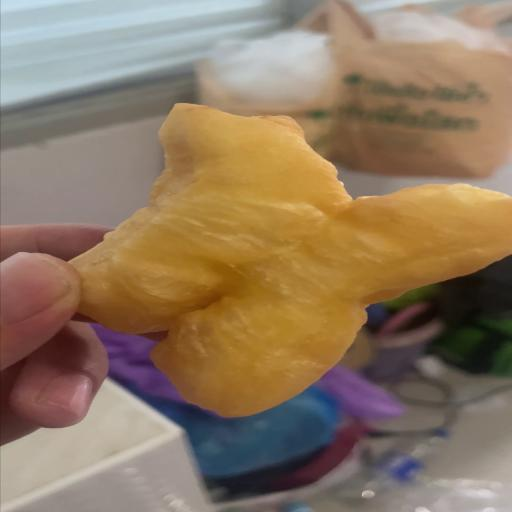street_golden_good: (70, 104, 512, 417)
